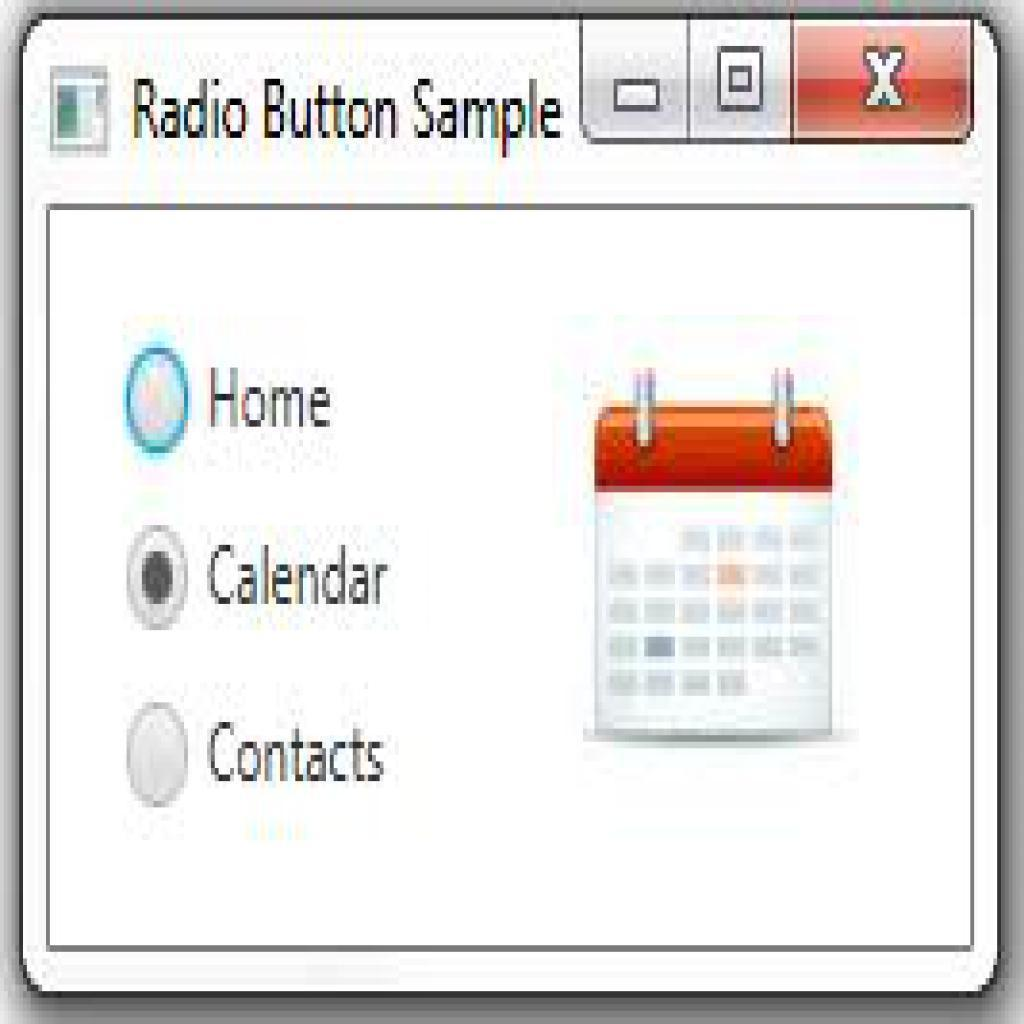radio: (122, 346, 191, 456), (122, 529, 188, 630), (126, 702, 187, 806)
